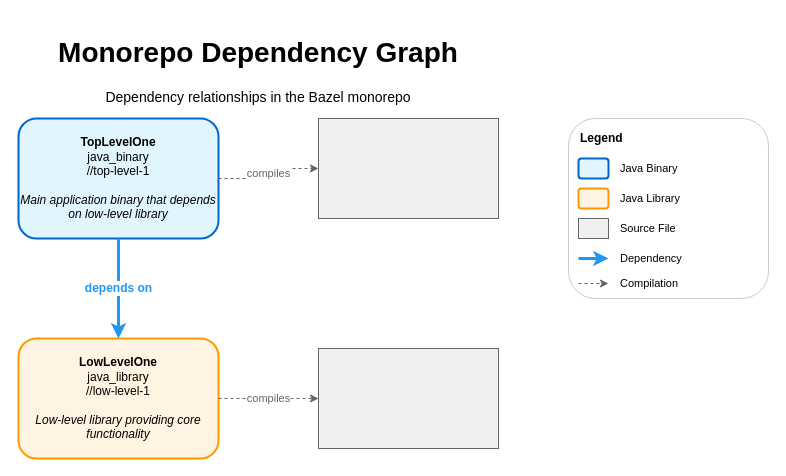
Some shapes in this 786 by 476 pixel diagram are drawn without their labels. Each missing label, with the centre of its shape:
"LowOneMain.java source_file Low-level library implementation" belongs at point 408,398.
"Main.java source_file Entry point for the application" belongs at point 408,168.
